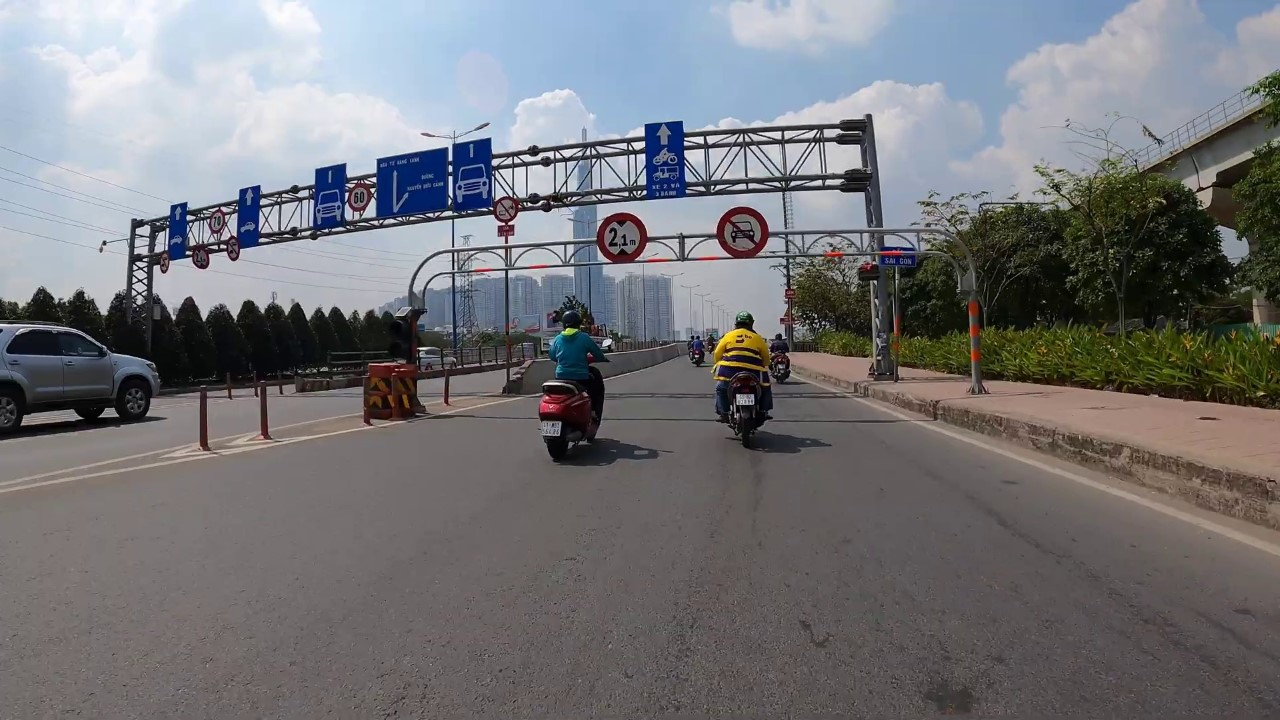gioi_han_60km: (347, 184, 372, 212)
